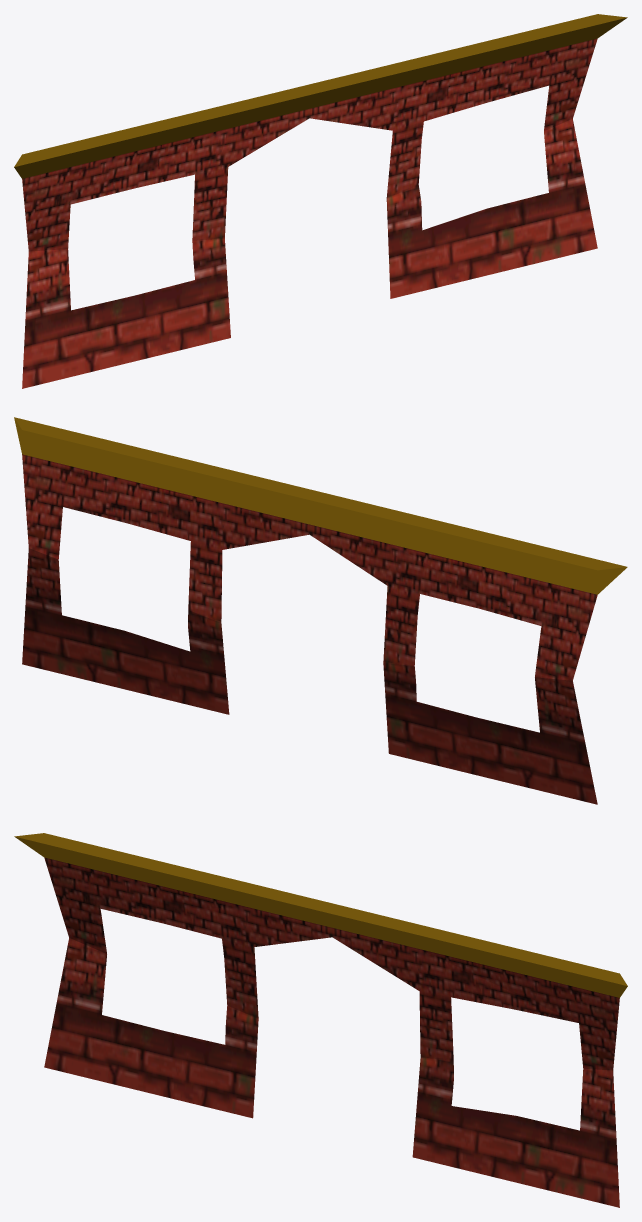
Rendered from W_A3_fOf_Eingeschnitten_1879.glb.
3 views of the same model, one above another, from view 1: azimuth 30°, elevation 25°; view 2: azimuth 150°, elevation 25°; view 3: azimuth 330°, elevation 25° (orthographic).
Visible parts, largest first — view 1: polySurfaceShape907, polySurfaceShape1057; view 2: polySurfaceShape907, polySurfaceShape1057; view 3: polySurfaceShape907, polySurfaceShape1057.
Part boxes in pixels (x1,y1,x2,y2): polySurfaceShape907: [22, 38, 597, 388]; polySurfaceShape1057: [14, 14, 627, 178]; polySurfaceShape907: [22, 454, 597, 804]; polySurfaceShape1057: [14, 417, 627, 594]; polySurfaceShape907: [44, 857, 619, 1207]; polySurfaceShape1057: [14, 833, 627, 997].
Size of the model in its own units: 1.07 by 0.3891 by 0.0607.
2 materials, 1 textured.
